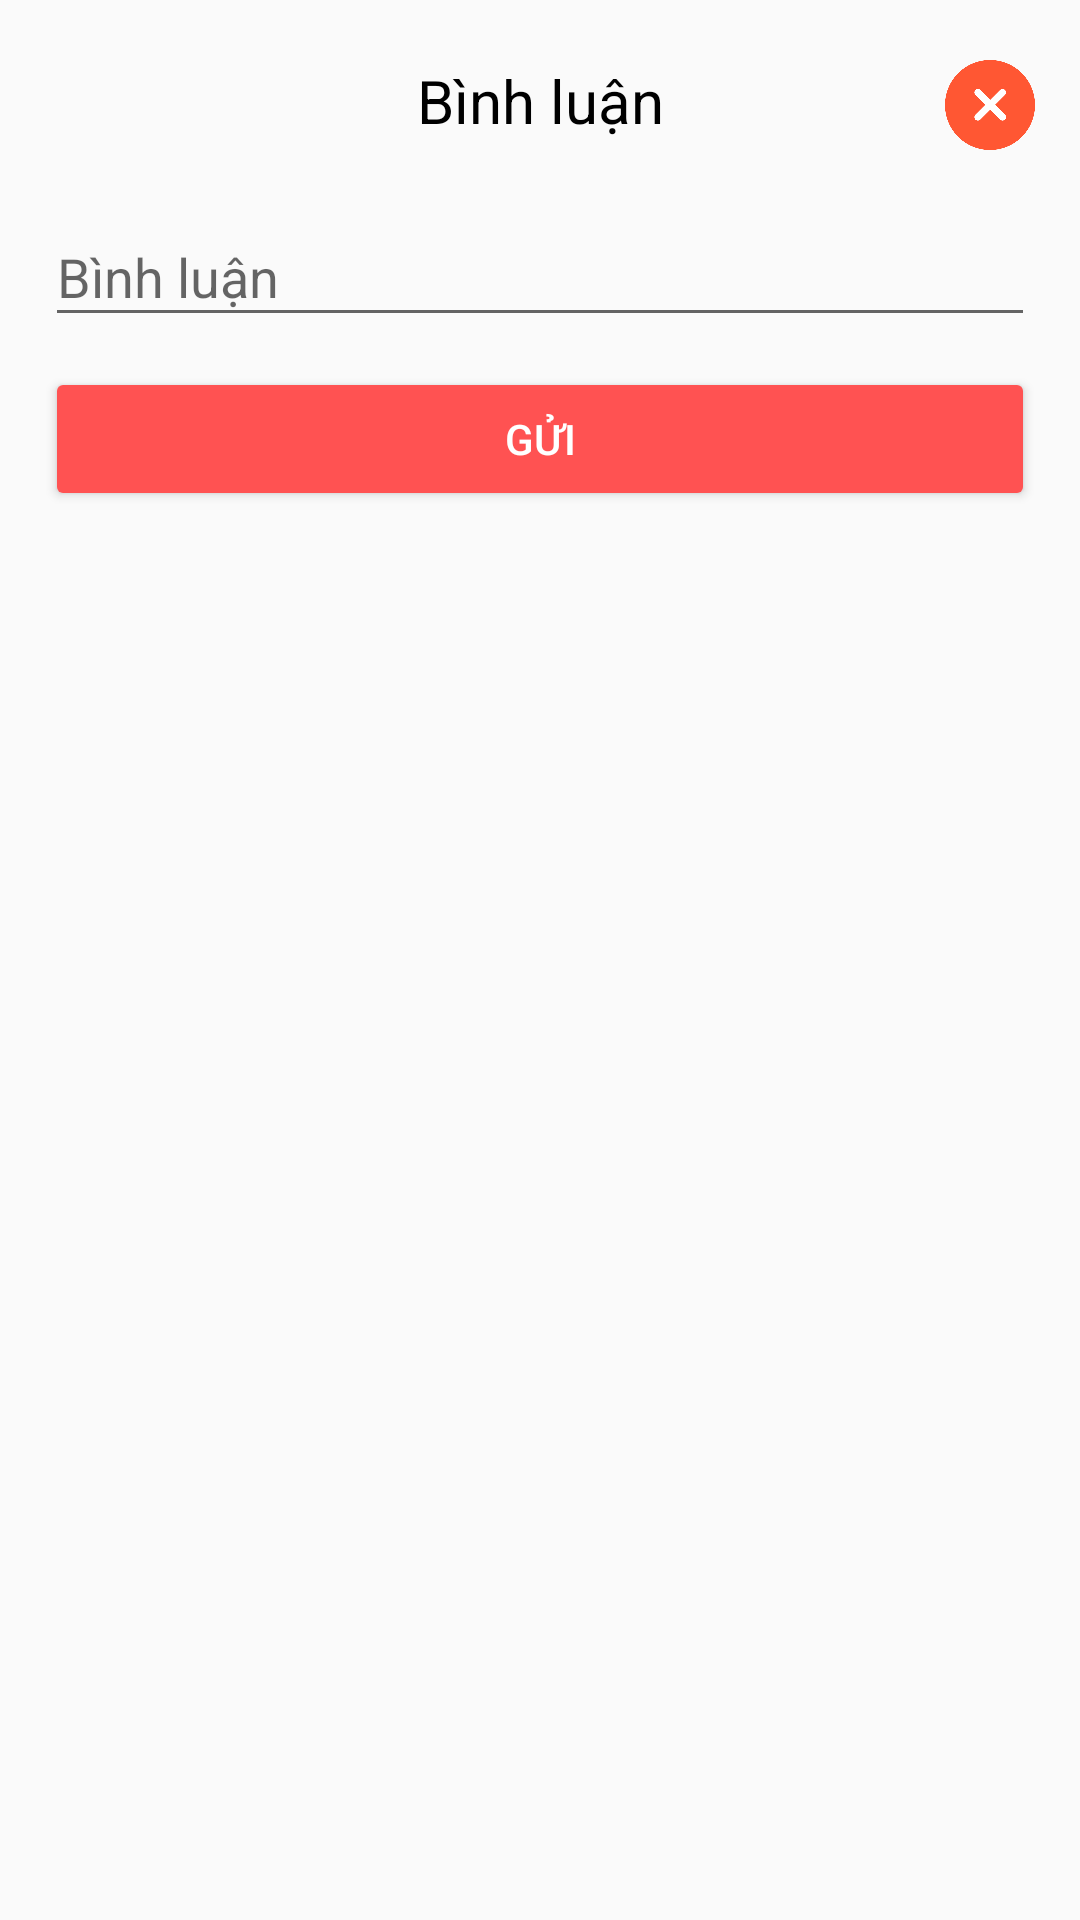

Where to tap for icons on this 1080 x 1920 app screen, as (x,y):
cancel: (990,105)
